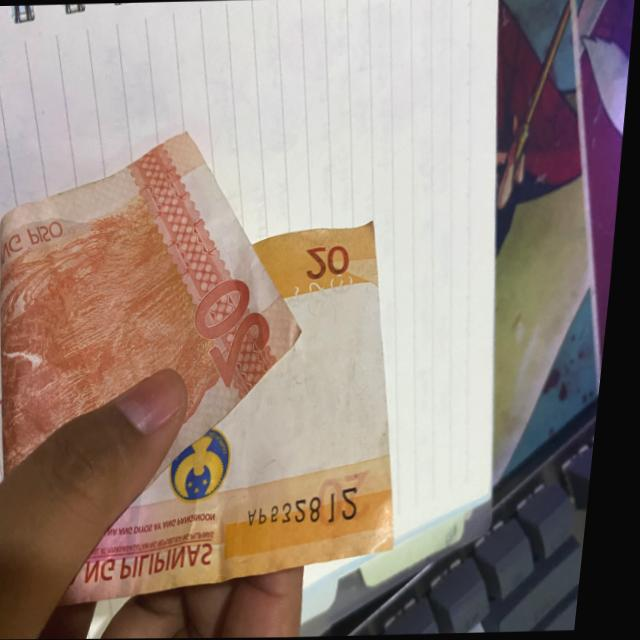see_through_mark: (284, 272, 368, 309)
serial_number: (255, 480, 376, 534)
value: (188, 257, 288, 398)
watermark: (242, 285, 378, 484)
